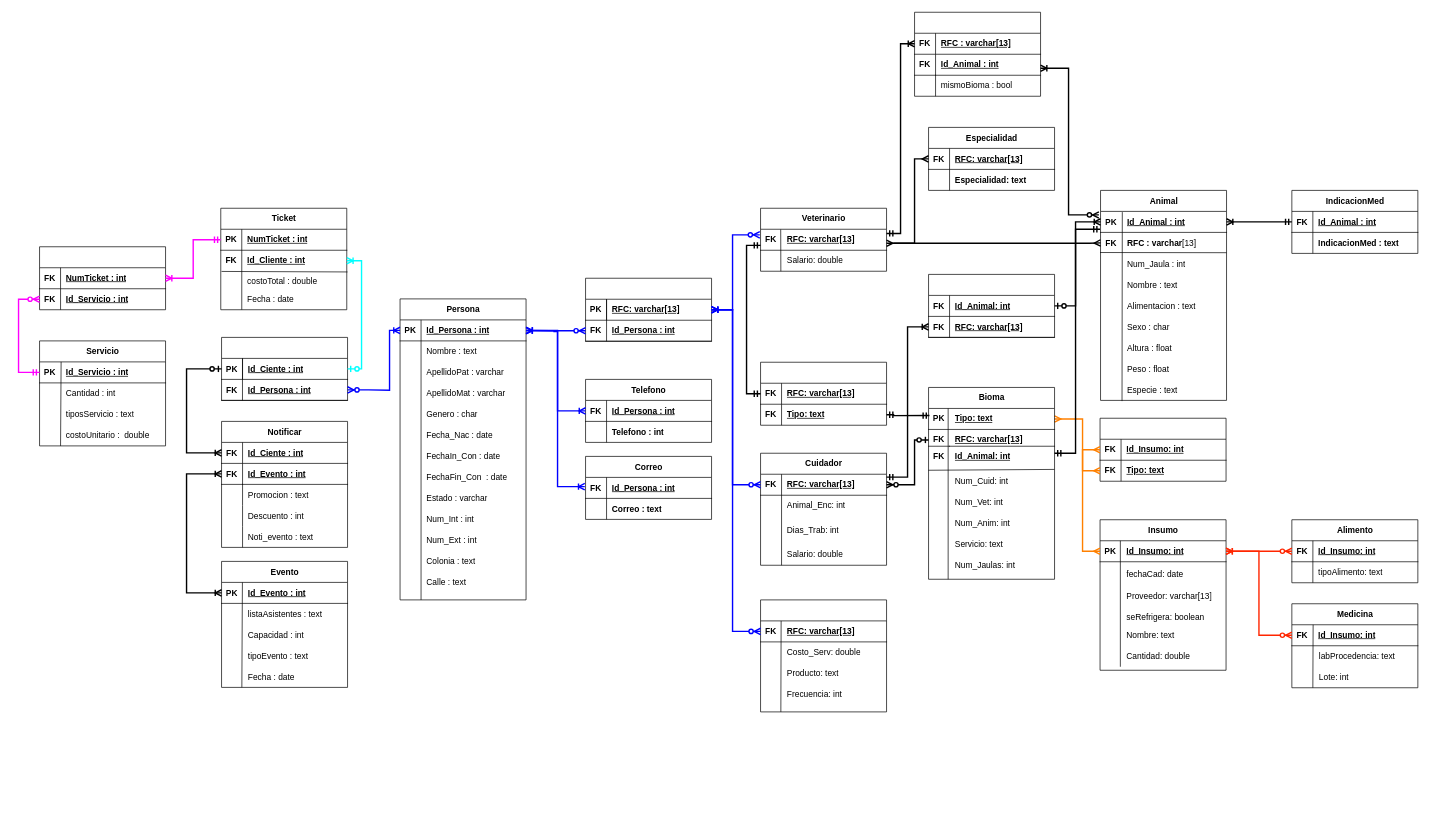
This 1431x830 diagram has some shape labels left out. Each missing label, with the box of its shape:
Atender: (914, 12, 1041, 96)
Cliente: (221, 337, 348, 400)
Cuidar: (928, 274, 1055, 337)
Distribuir: (1099, 418, 1226, 481)
Proveedor: (760, 599, 887, 712)
Registrar: (39, 246, 166, 310)
Trabajador: (585, 278, 712, 341)
Trabajar: (760, 362, 887, 425)
